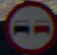No overtake: (6, 2, 51, 47)
